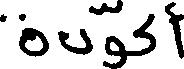X: (0, 9, 47, 61), (58, 1, 91, 59), (106, 0, 124, 68), (165, 0, 183, 63), (134, 9, 153, 60)
